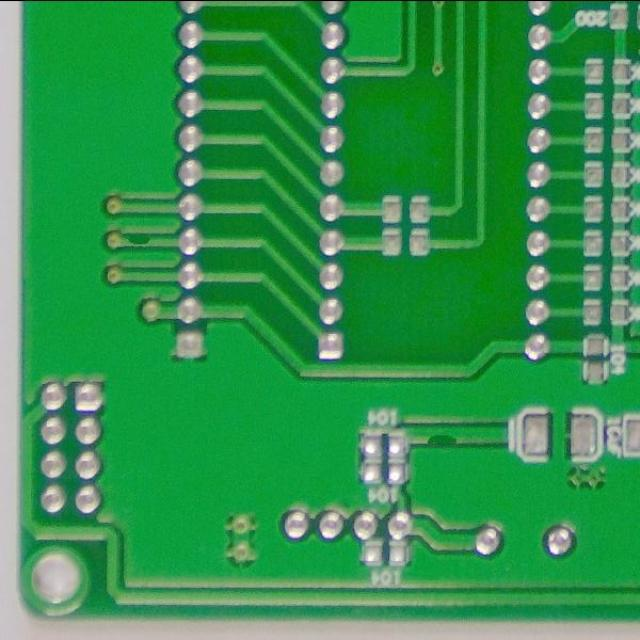mouse_bite: (420, 430, 464, 449), (125, 230, 158, 248)
